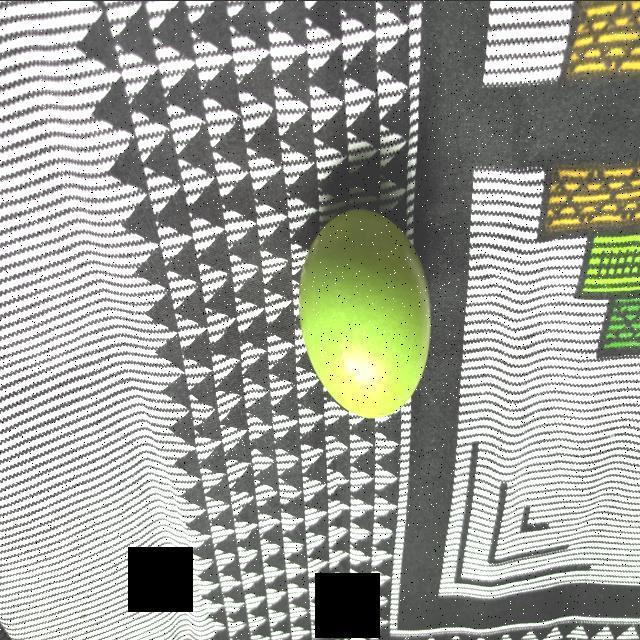egg: (298, 195, 437, 428)
